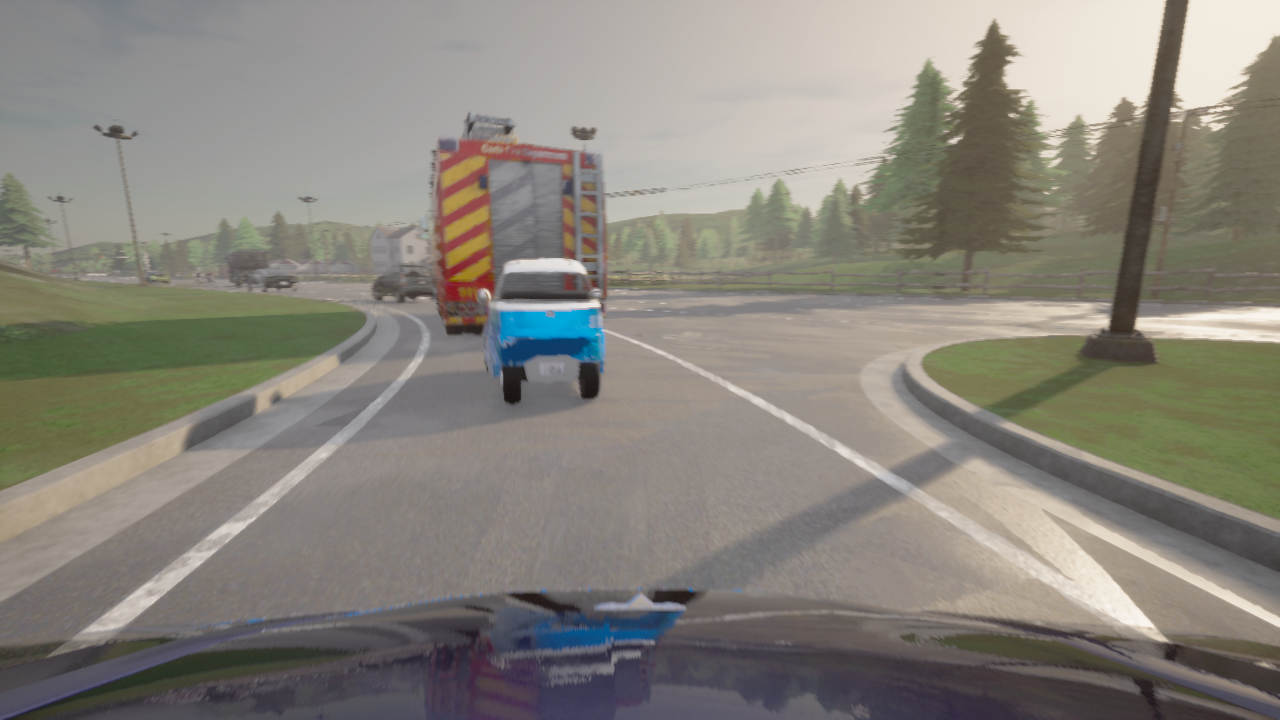cyclist: (0, 588, 1279, 719), (419, 111, 606, 335), (476, 258, 603, 403), (372, 264, 433, 303), (225, 250, 269, 285), (246, 267, 297, 291), (144, 271, 169, 283), (207, 274, 214, 283), (198, 277, 202, 283), (60, 273, 61, 274)
